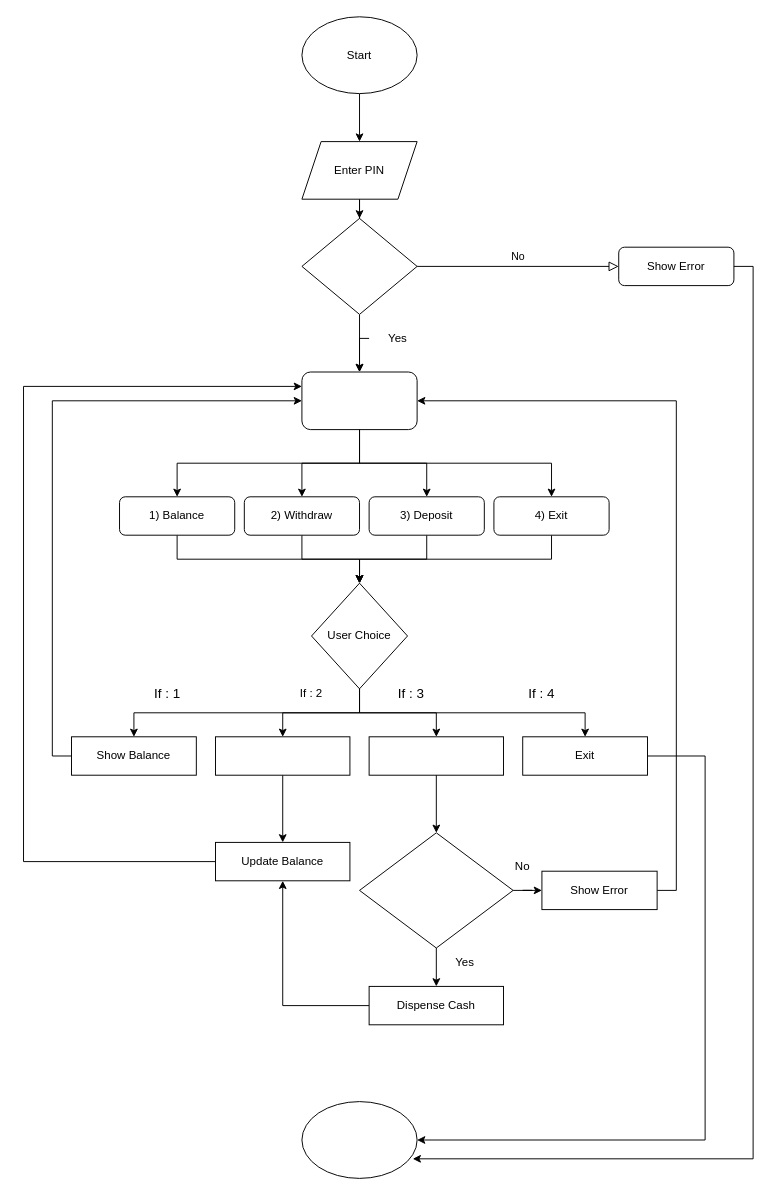
Some shapes in this 778 by 1195 pixel diagram are drawn without their labels. Each missing label, with the centre of its shape:
"End" goes at pixel 359 1139.
"Enter Deposit Amount" goes at pixel 282 755.
"Enter Withdraw Amount" goes at pixel 436 755.
"Is Amount ≤ Balance?" goes at pixel 436 890.
"Is PIN Correct?" goes at pixel 359 265.
"Show Menu" goes at pixel 359 400.
